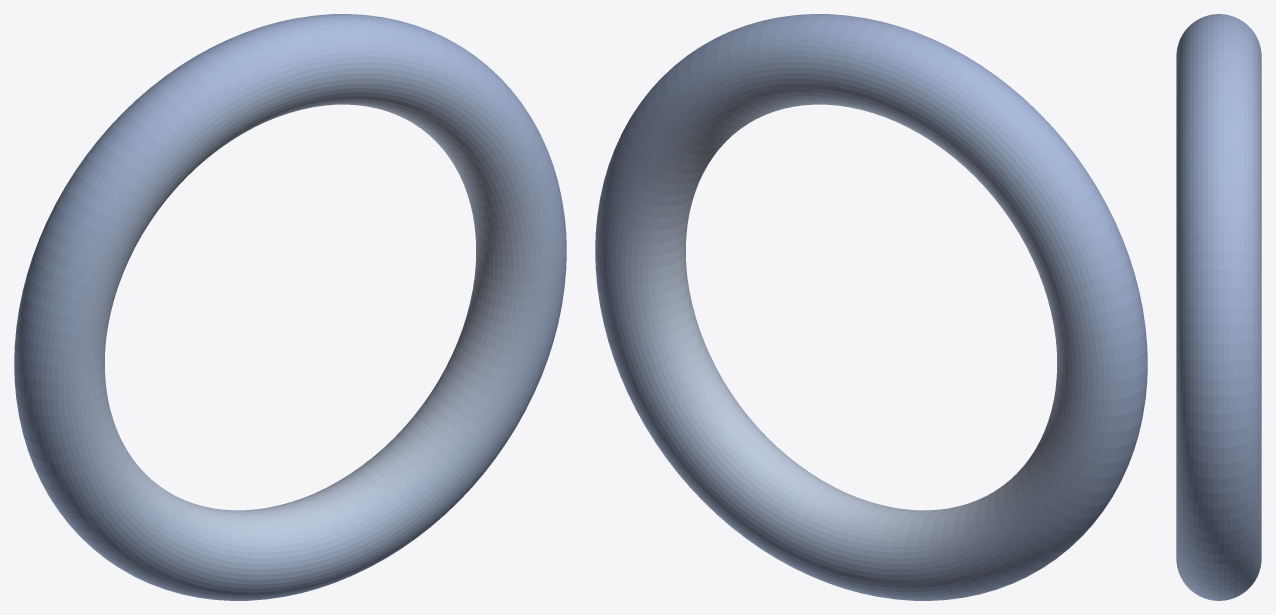
The picture shows the model from 3 angles, left to right: view 1: azimuth 30°, elevation 25°; view 2: azimuth 150°, elevation 25°; view 3: azimuth 270°, elevation 25°; orthographic projection. The views are drawn at different scales.
Parts seen in each view (by area): view 1: world; view 2: world; view 3: world.
Boxes of the visible parts, x1,y1,x2,y2 form: world: (14, 14, 566, 600); world: (595, 14, 1147, 600); world: (1176, 14, 1261, 600).
Size of the model in its own units: 15.6 by 15.6 by 2.26.
